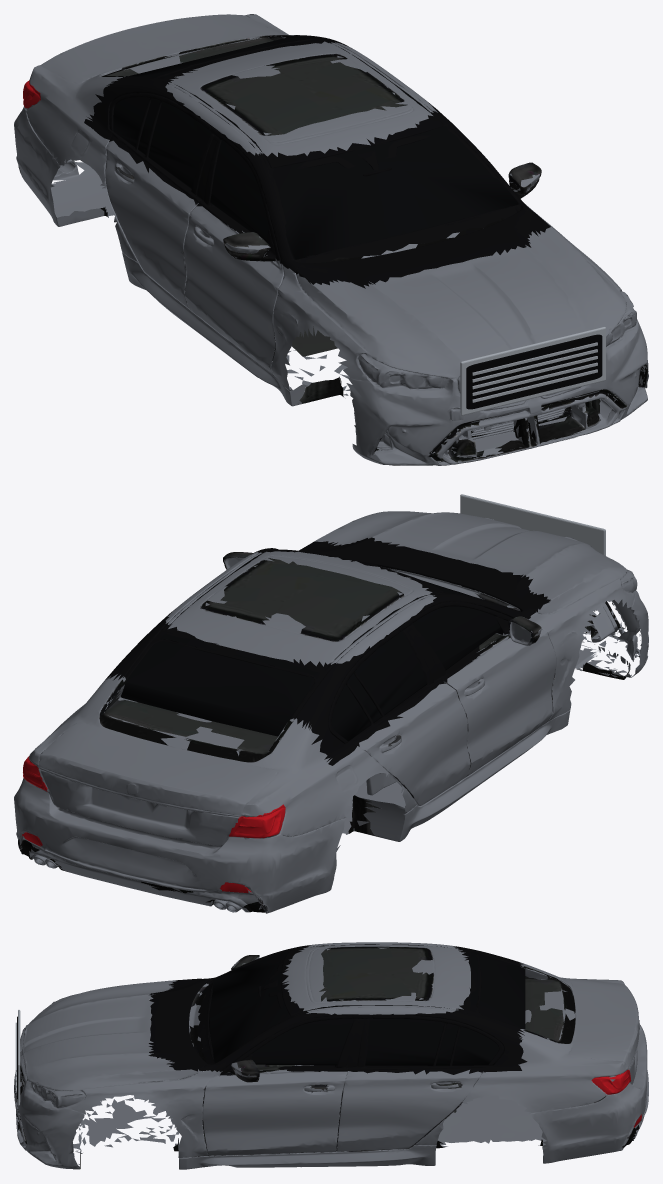
Rendered from sedan_hf.glb.
3 views of the same model, one above another, from view 1: azimuth 30°, elevation 25°; view 2: azimuth 150°, elevation 25°; view 3: azimuth 270°, elevation 25° (orthographic). The views are drawn at different scales.
Parts seen in each view (by area): view 1: sedan13, glass, grille_panel, grille_frame; view 2: sedan13, glass, grille_frame; view 3: sedan13, glass.
Boxes of the visible parts, x1,y1,x2,y2 form: sedan13: (14,14,648,465); glass: (113,37,518,259); grille_panel: (466,334,602,409); grille_frame: (460,326,605,415); sedan13: (14,511,648,913); glass: (121,553,517,744); grille_frame: (460,494,605,555); sedan13: (14,942,648,1169); glass: (209,943,525,1065).
Size of the model in its own units: 2.3 by 1.37 by 5.23.
Materials: 6 (1 with a texture image).
